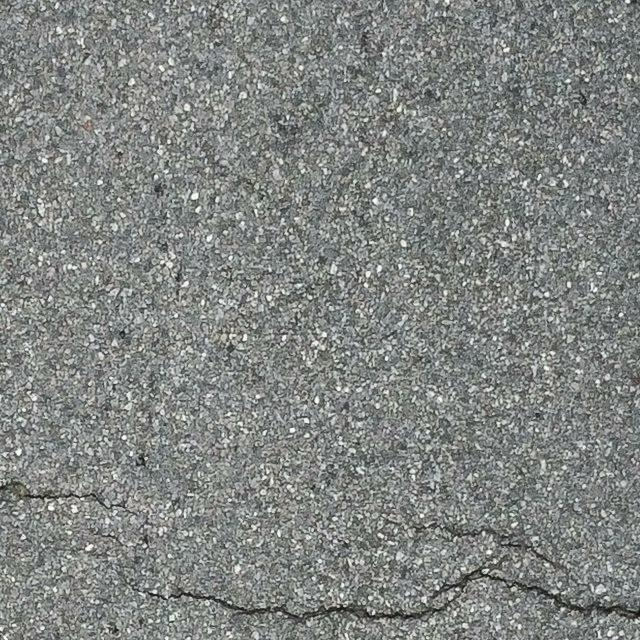TransverseCrack: (144, 563, 640, 622)
